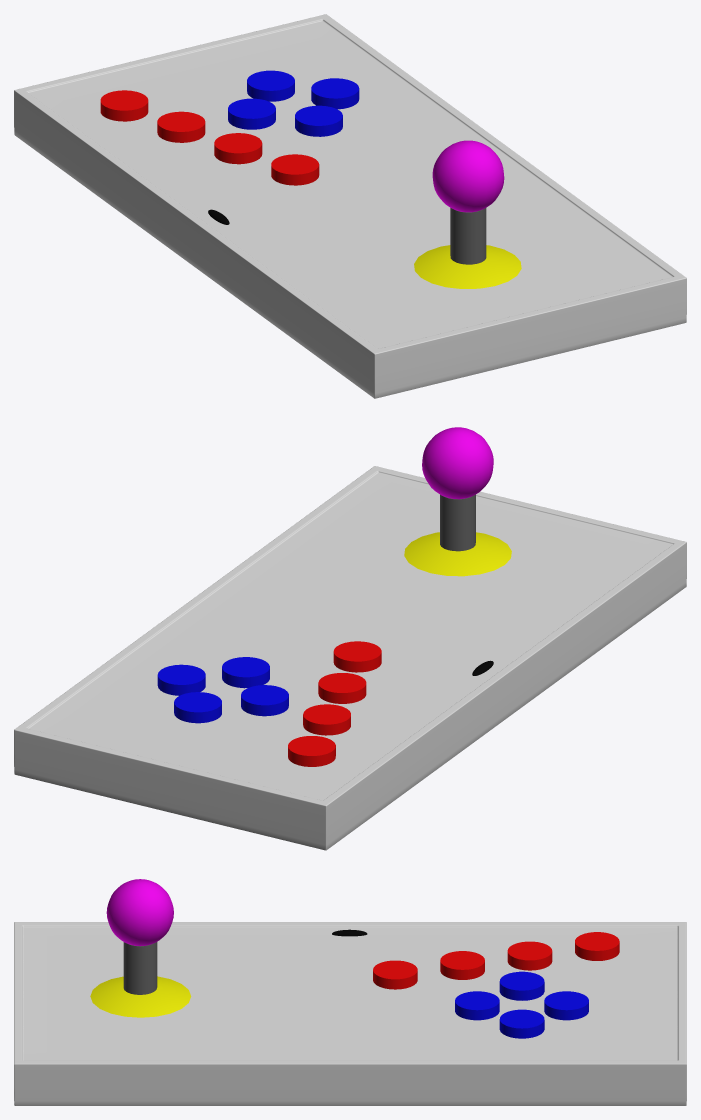
Rendered from GamePad.fbx.
The picture shows the model from 3 angles, top to bottom: view 1: azimuth 30°, elevation 25°; view 2: azimuth 150°, elevation 25°; view 3: azimuth 270°, elevation 25°; orthographic projection. The views are drawn at different scales.
Parts seen in each view (by area): view 1: pCylinder11; view 2: pCylinder11; view 3: pCylinder11.
Part boxes in pixels (<box>): pCylinder11: <box>14,14,686,398</box>; pCylinder11: <box>14,427,686,850</box>; pCylinder11: <box>14,879,686,1105</box>.
Bounding box in the file's own units: 15 × 7.63 × 30.
